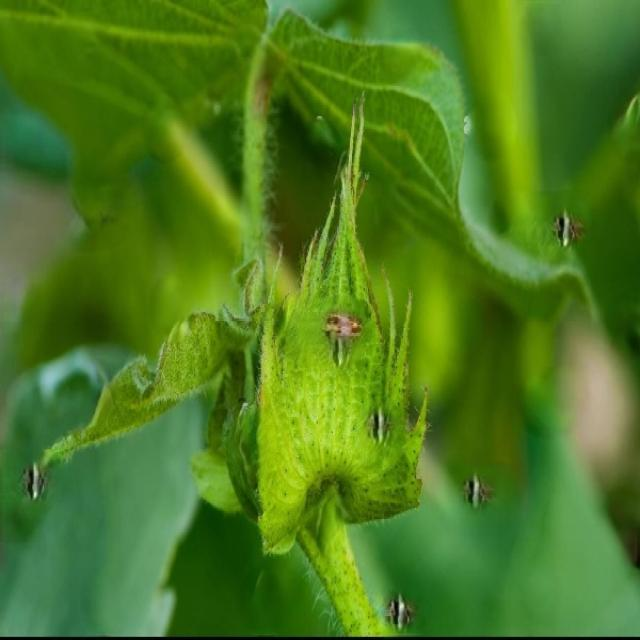Cotton Bud: (243, 177, 421, 547)
